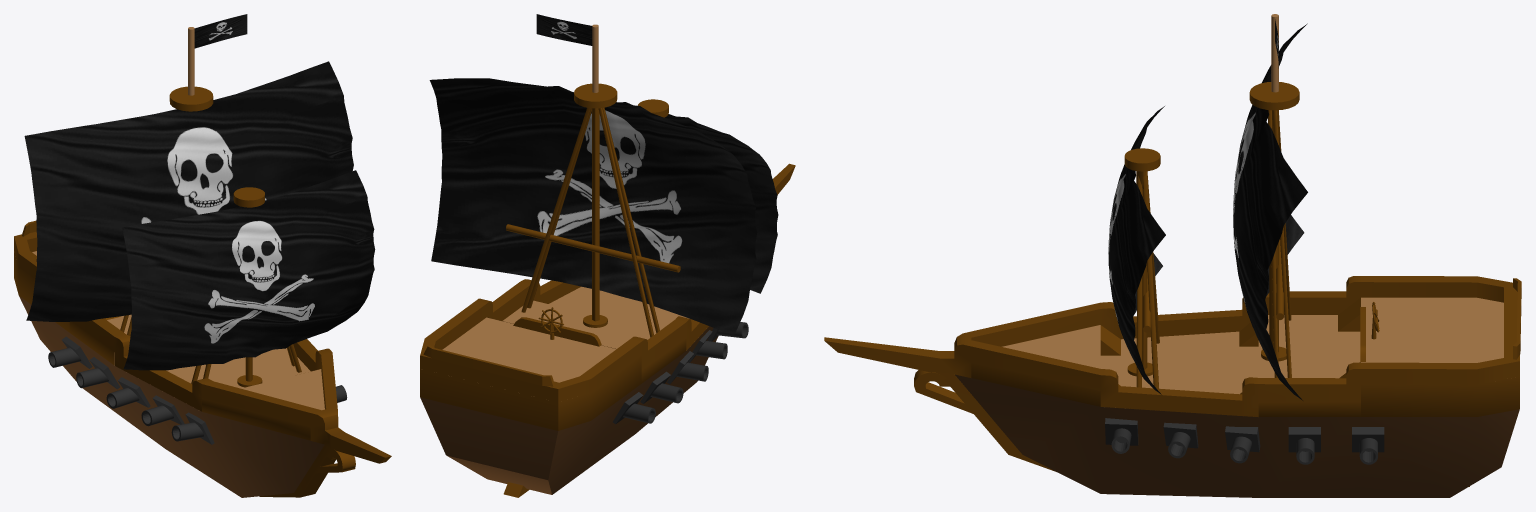
Rendered from shipenemy.fbx.
3 views of the same model, side by side, from view 1: azimuth 30°, elevation 25°; view 2: azimuth 150°, elevation 25°; view 3: azimuth 270°, elevation 25° (orthographic). The views are drawn at different scales.
Visible parts, largest first — view 1: Sails_enemy, NewBoatBase, Cannon, NewBoatBaseDetails, Flags, Flagpole; view 2: Sails_enemy, NewBoatBase, NewBoatBaseDetails, Cannon, Flags, Flagpole; view 3: NewBoatBase, Sails_enemy, NewBoatBaseDetails, Cannon.
Boxes of the visible parts, x1=… form: Sails_enemy: x1=24, y1=61, x2=375, y2=370; NewBoatBase: x1=14, y1=231, x2=391, y2=497; Cannon: x1=48, y1=336, x2=347, y2=444; NewBoatBaseDetails: x1=22, y1=86, x2=301, y2=387; Flags: x1=194, y1=14, x2=247, y2=48; Flagpole: x1=188, y1=27, x2=194, y2=95; Sails_enemy: x1=429, y1=78, x2=778, y2=335; NewBoatBase: x1=420, y1=163, x2=795, y2=497; NewBoatBaseDetails: x1=423, y1=83, x2=680, y2=386; Cannon: x1=613, y1=322, x2=748, y2=424; Flags: x1=536, y1=14, x2=592, y2=45; Flagpole: x1=592, y1=24, x2=598, y2=92; NewBoatBase: x1=824, y1=276, x2=1519, y2=497; Sails_enemy: x1=1108, y1=23, x2=1307, y2=400; NewBoatBaseDetails: x1=1100, y1=82, x2=1521, y2=394; Cannon: x1=1105, y1=418, x2=1384, y2=464.
Bounding box in the file's own units: 16.4 × 20.34 × 27.44.
7 materials, 1 textured.
